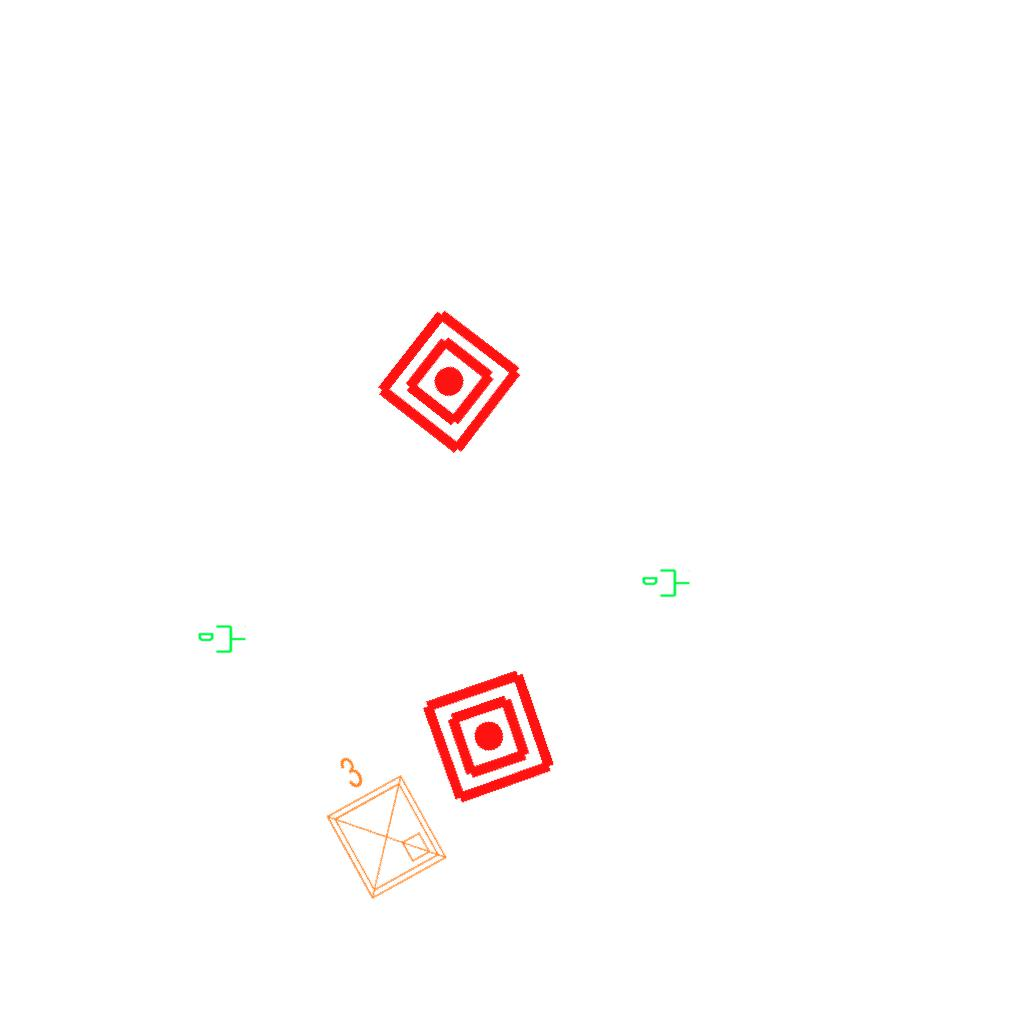Datenanschluss_einfach: (197, 623, 247, 657), (641, 567, 691, 601)
Einbaudownlights_LED_Konferenzraeume: (293, 729, 457, 911)
NAM-Nichtautomatischer_Melder: (370, 302, 529, 461), (416, 664, 561, 809)
